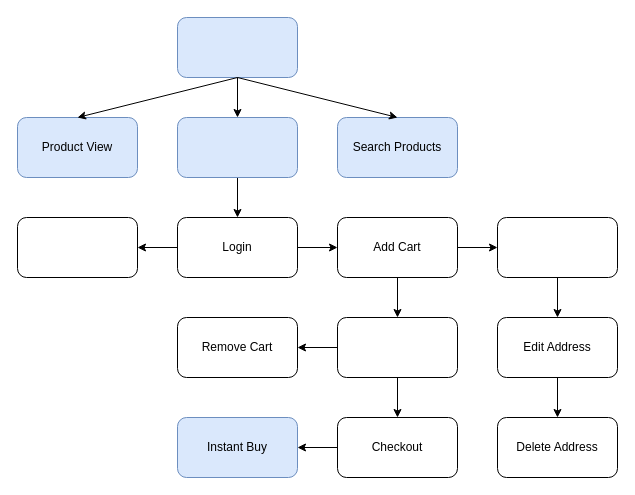
The diagram is 635 pixels wide and 495 high, and some of its shapes have lost their labels. Each missing label, with the centre of its shape:
"Add Address" goes at point (557, 247).
"Add Product" goes at point (77, 247).
"List Cart" goes at point (397, 347).
"Sign Up" goes at point (237, 147).
"User" goes at point (237, 47).
